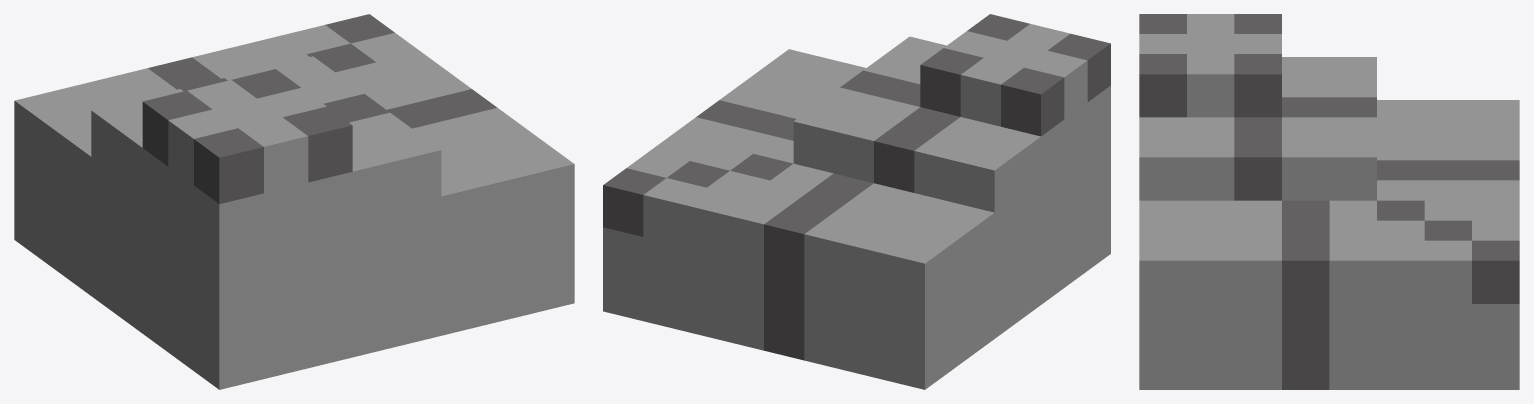
The model's file is Rock 2.obj.
The picture shows the model from 3 angles, left to right: view 1: azimuth 30°, elevation 25°; view 2: azimuth 150°, elevation 25°; view 3: azimuth 270°, elevation 25°; orthographic projection. The views are drawn at different scales.
Size of the model in its own units: 0.8 by 0.5 by 0.8.
